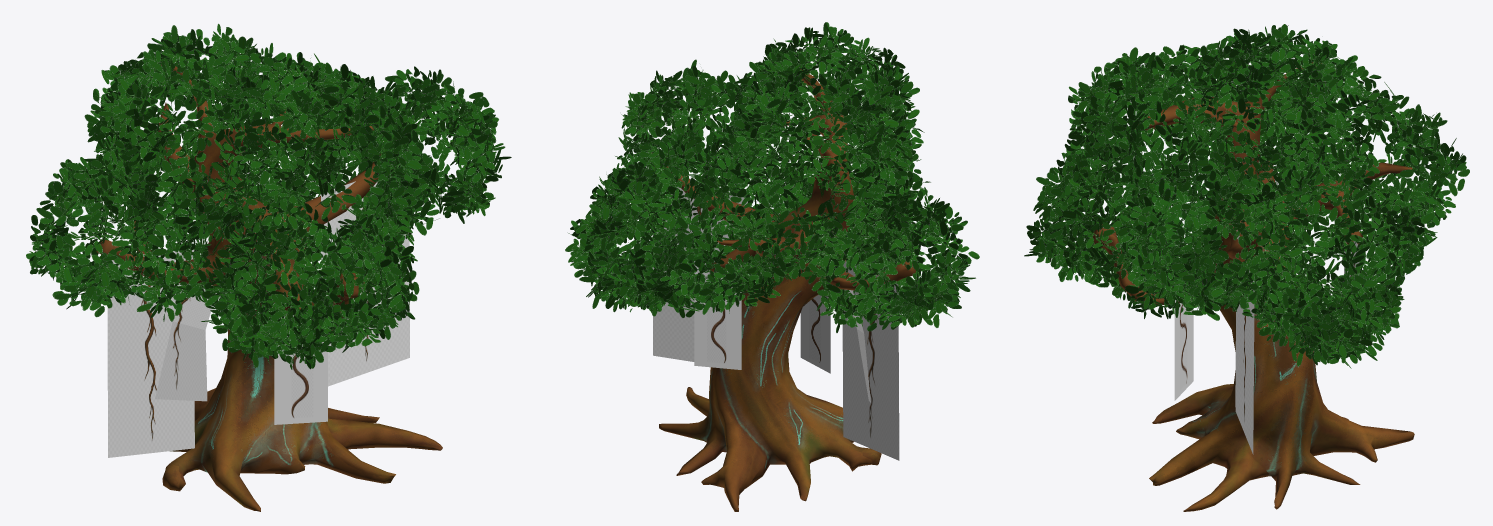
File: TestingToUnity.fbx
3 renders of one model, left to right at view 1: azimuth 30°, elevation 25°; view 2: azimuth 150°, elevation 25°; view 3: azimuth 270°, elevation 25°, orthographic. The views are drawn at different scales.
Parts seen in each view (by area): view 1: LeavesRendering, PanoharraTrunk.001, Empty.002, Empty.008, Empty.001, Empty.005; view 2: LeavesRendering, PanoharraTrunk.001, Empty.002, Empty.006, Empty.001, Empty.005; view 3: LeavesRendering, PanoharraTrunk.001, Empty.001, Empty.005.
Boxes of the visible parts, x1,y1,x2,y2 form: LeavesRendering: [26, 23, 511, 369]; PanoharraTrunk.001: [96, 65, 442, 511]; Empty.002: [107, 249, 194, 457]; Empty.008: [155, 284, 216, 401]; Empty.001: [321, 181, 409, 386]; Empty.005: [274, 315, 327, 424]; LeavesRendering: [565, 22, 979, 332]; PanoharraTrunk.001: [651, 69, 915, 511]; Empty.002: [842, 261, 899, 460]; Empty.006: [694, 261, 741, 369]; Empty.001: [652, 187, 747, 361]; Empty.005: [800, 294, 830, 373]; LeavesRendering: [1024, 24, 1469, 368]; PanoharraTrunk.001: [1093, 62, 1414, 511]; Empty.001: [1235, 230, 1254, 454]; Empty.005: [1174, 300, 1193, 400].
Size of the model in its own units: 2423 by 2301 by 2318.
